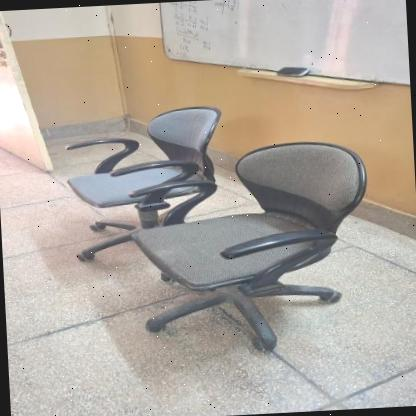chair: (122, 132, 377, 361), (48, 100, 236, 274)
